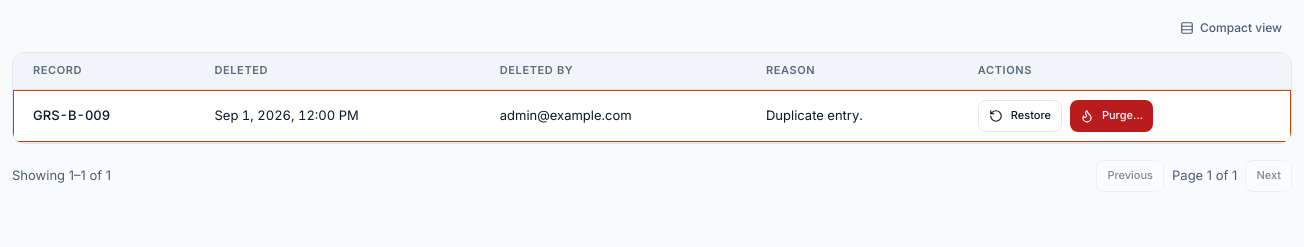
Test: DeletedRecordsTable restore › shows an inline error and does not notify the parent when the restore fails
The image size is (1304, 247).
Expected: the text "GRS-B-009" is shown, top-left (33, 107), bottom-right (110, 123)
What coordinates should you click on to do the following:
click the button "Restore"
I would click on:
 (1020, 116)
Its box is top-left (978, 100), bottom-right (1062, 132).
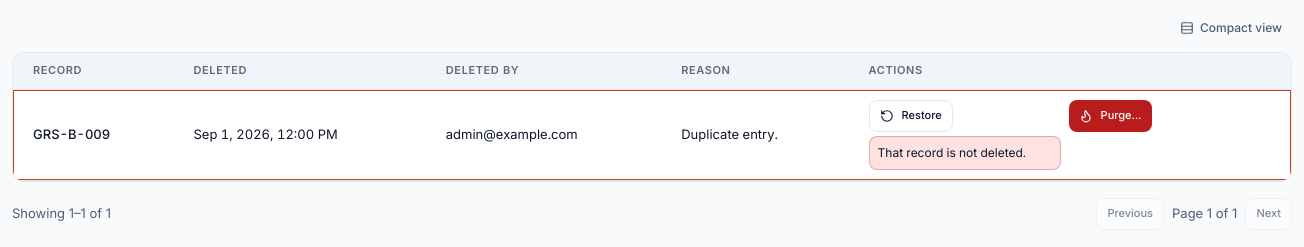
Expected: the text "GRS-B-009" is shown, top-left (33, 126), bottom-right (110, 142)
Expected: the text "That record is not deleted." is shown, top-left (869, 136), bottom-right (1061, 170)
